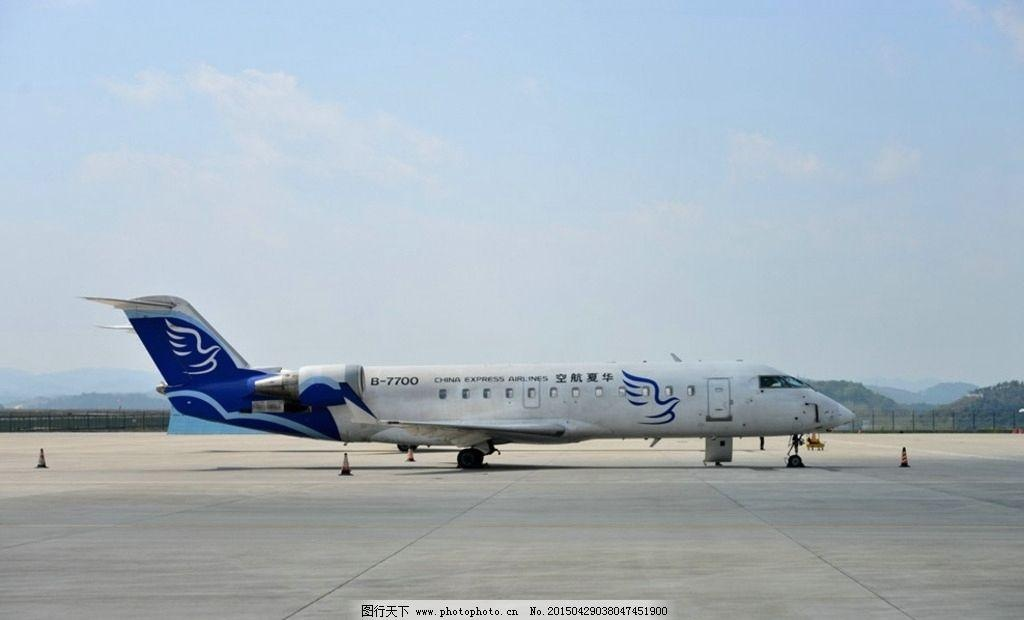airplane: (74, 285, 860, 474)
